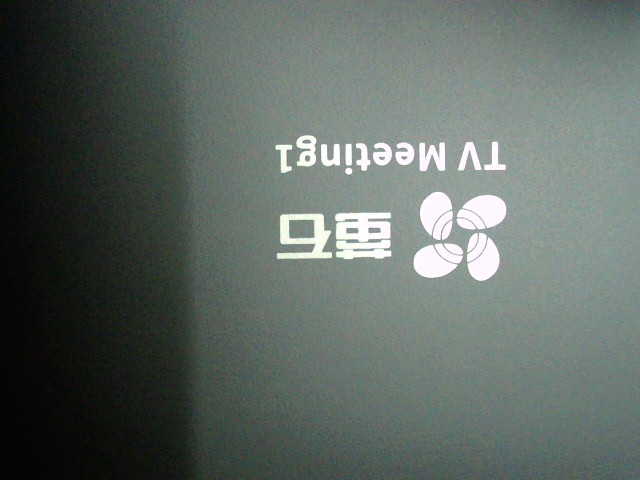BA_Yingshi: (273, 131, 505, 281)
